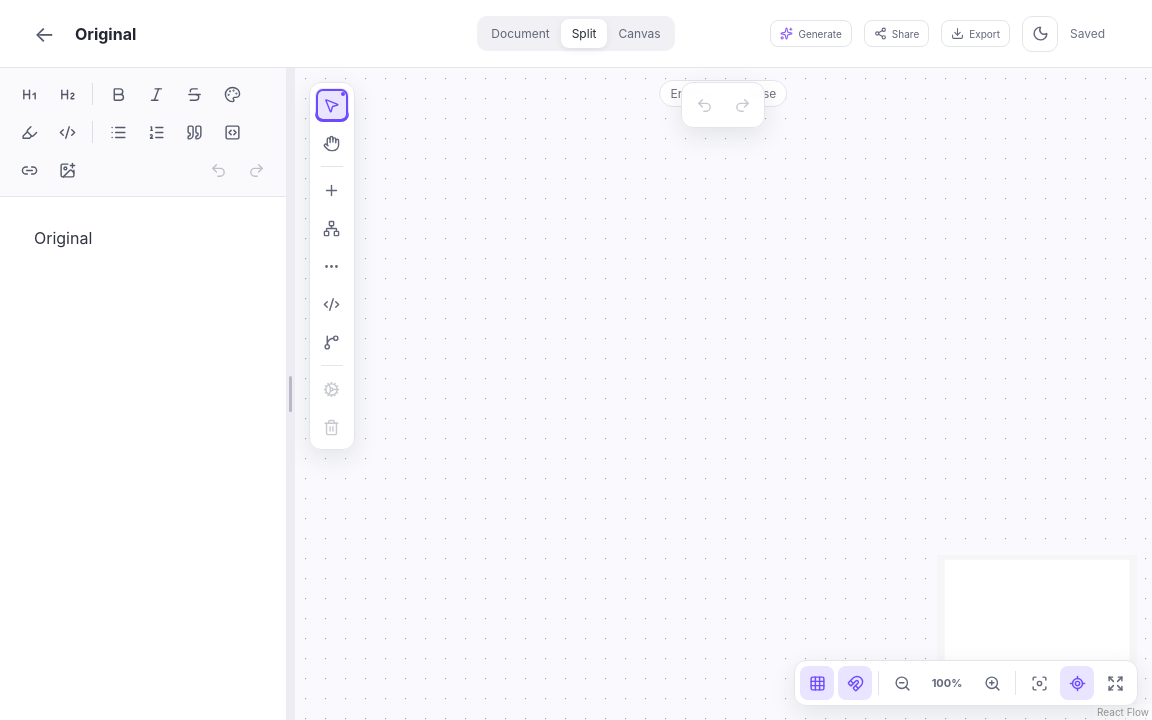
Test: Editor conflict recovery › detects another tab save before autosave and preserves each tab draft
Replace the text in the field named "Project name" with "Unsaved Tab B draft" at coordinates (253, 34), box [73,22,433,44]
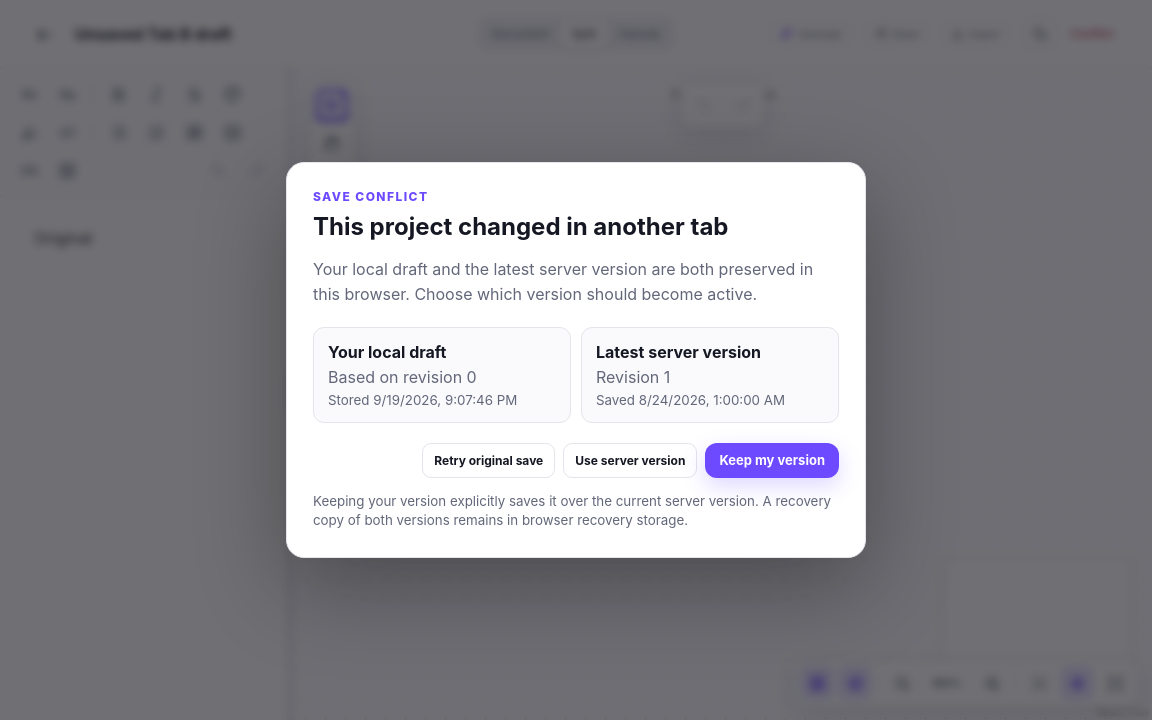
Expected: the dialog "This project changed in another tab" is shown, [286,162,866,558]
